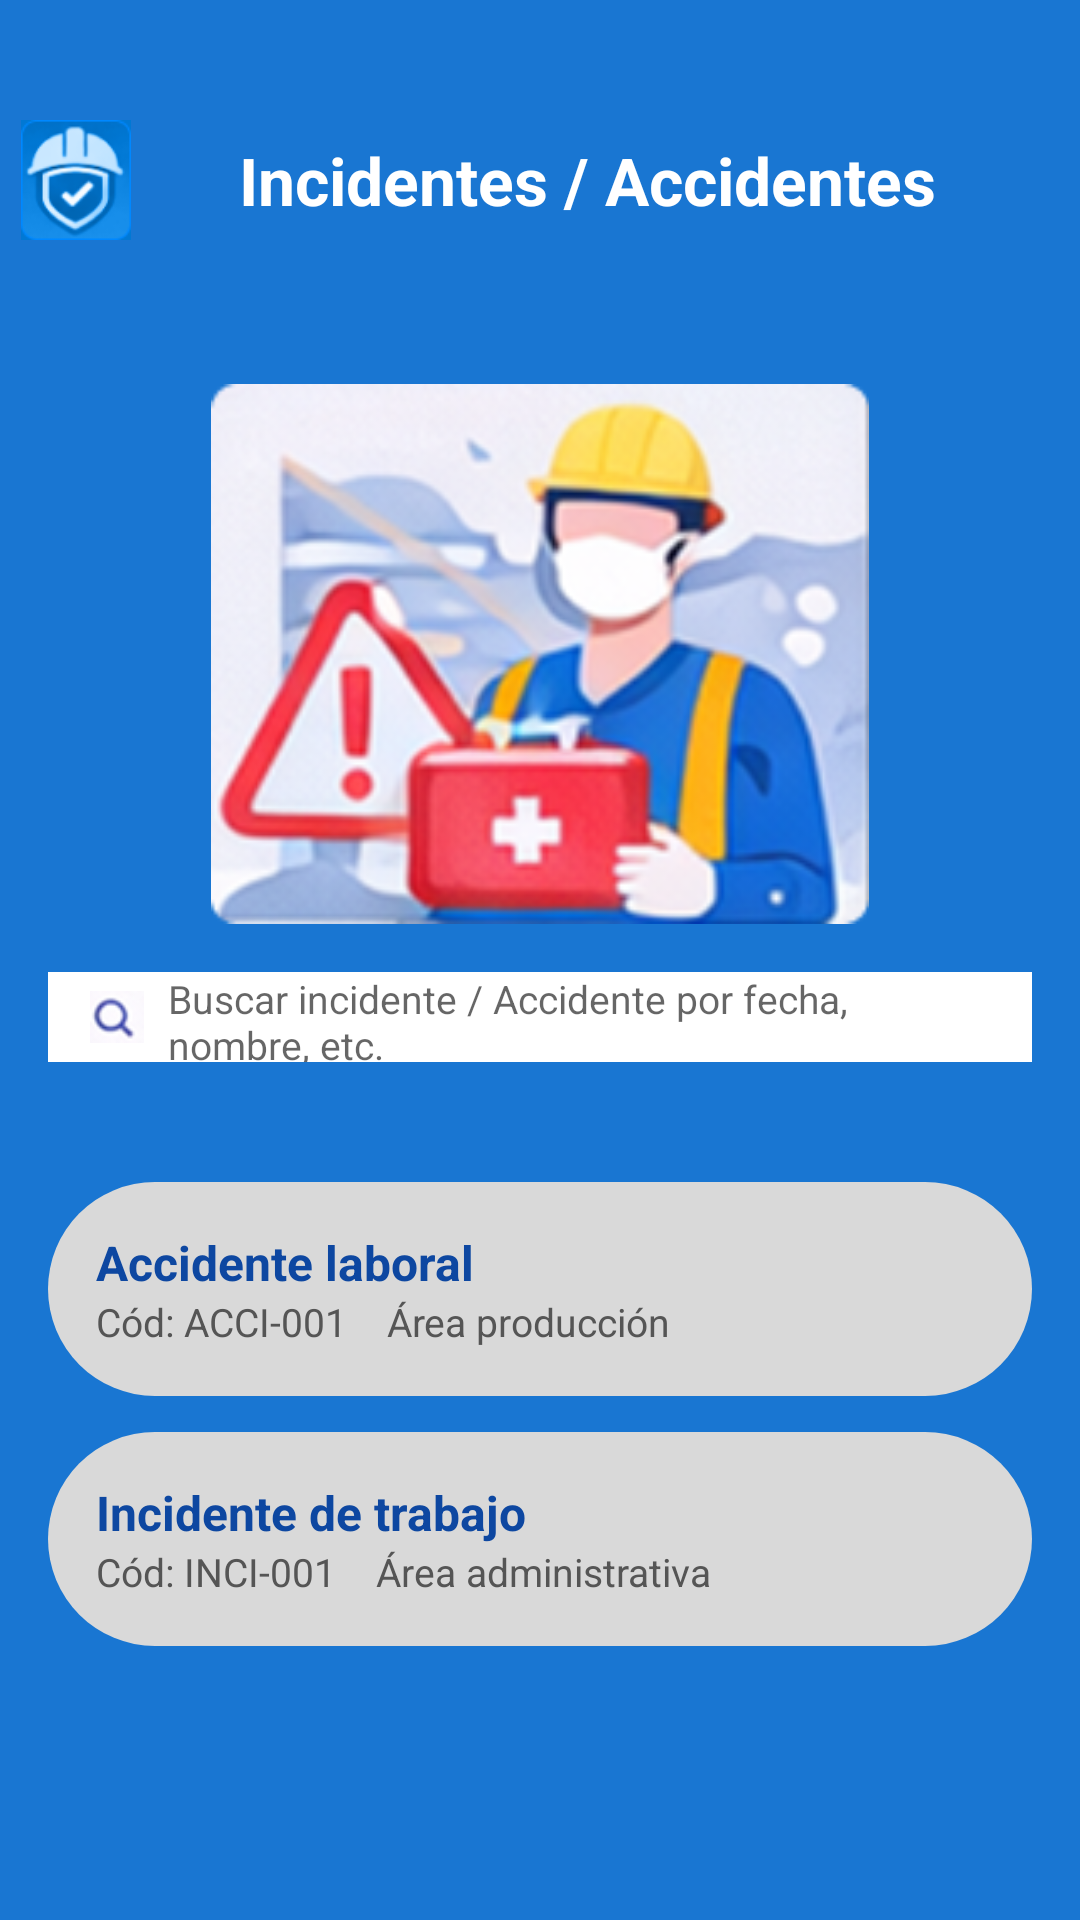

Named icons in this screenshot (1080×1920) and their centers, (x,y):
lupa buscar: (113,1018)
